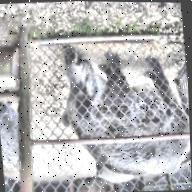boar: (46, 45, 192, 192)
